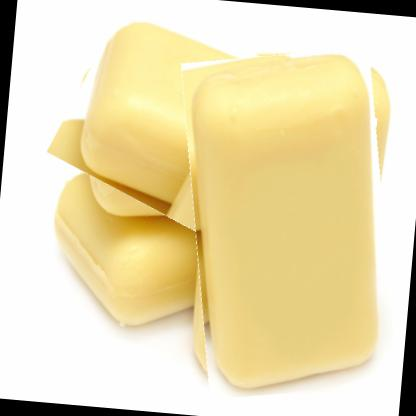soap: (167, 40, 412, 408), (52, 8, 374, 264)
